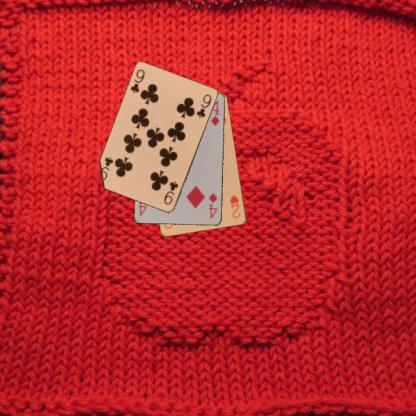2h: (228, 192, 242, 220)
4d: (206, 191, 218, 220)
9c: (128, 66, 146, 95), (161, 179, 180, 206)
